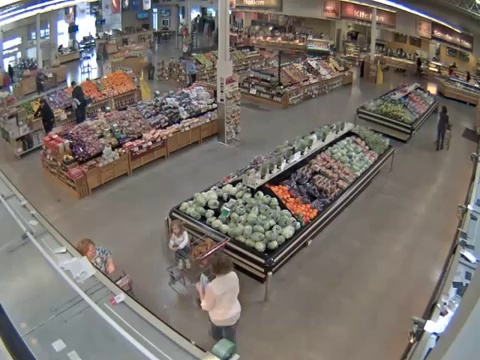face: (170, 222, 182, 235), (84, 245, 97, 257)
